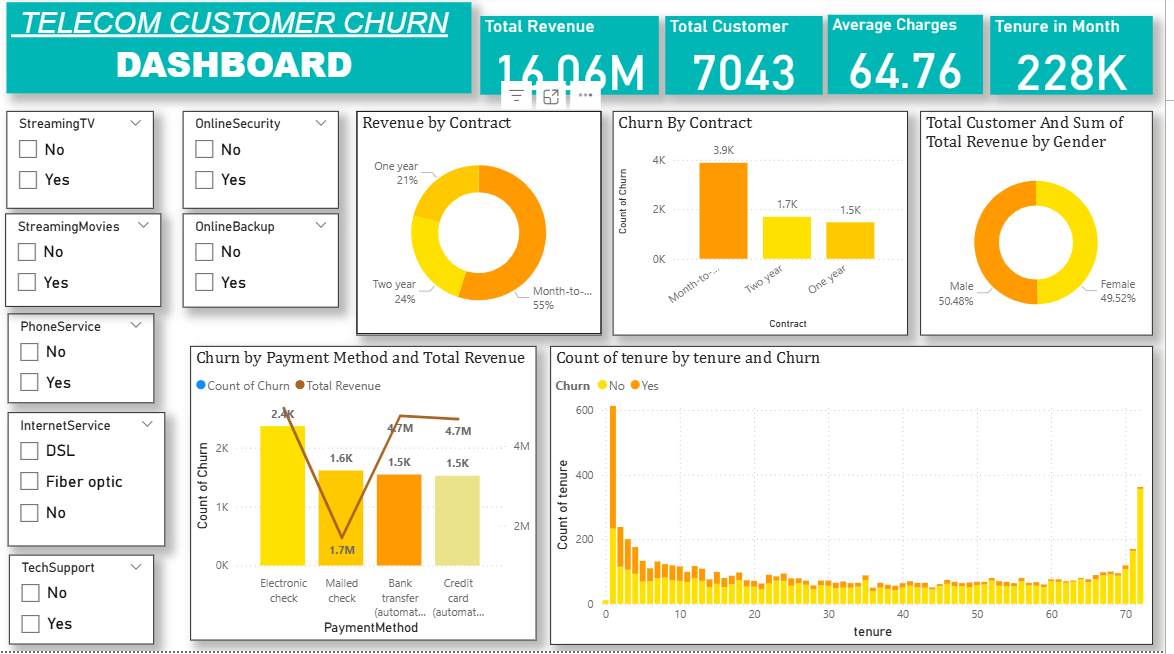

The page's visual inventory and layout, read from the dashboard file:
{"tool":"powerbi","page":{"name":"Page 1","canvas":[1280,720],"ordinal":0},"visuals":[{"type":"textbox","box":[8.6,7.1,510,100],"z":0},{"type":"card","title":"Total Revenue","fields":{"Values":["Sum(WA_Fn-UseC_-Telco-Customer-Churn.TotalCharges)"]},"box":[528.3,21.7,195.8,86.7],"z":1000},{"type":"card","title":"Total Customer","fields":{"Values":["Count(WA_Fn-UseC_-Telco-Customer-Churn.customerID)"]},"box":[730.8,21.7,172.5,86.7],"z":2000},{"type":"card","title":"Average Charges","fields":{"Values":["Avg(WA_Fn-UseC_-Telco-Customer-Churn.MonthlyCharges)"]},"box":[910,20.8,170,87.5],"z":3000},{"type":"card","title":"Tenure in Month","fields":{"Values":["Sum(WA_Fn-UseC_-Telco-Customer-Churn.tenure)"]},"box":[1087.5,21.7,178.3,86.7],"z":4000},{"type":"slicer","fields":{"Values":["WA_Fn-UseC_-Telco-Customer-Churn.StreamingTV"]},"box":[8.6,125.7,161.4,107.4],"z":5000},{"type":"slicer","fields":{"Values":["WA_Fn-UseC_-Telco-Customer-Churn.PhoneService"]},"box":[9.6,348.5,160.5,98.8],"z":6000},{"type":"slicer","fields":{"Values":["WA_Fn-UseC_-Telco-Customer-Churn.StreamingMovies"]},"box":[7.1,238.6,171.4,102.6],"z":7000},{"type":"slicer","fields":{"Values":["WA_Fn-UseC_-Telco-Customer-Churn.InternetService"]},"box":[9.6,456.9,172.9,146.8],"z":8000},{"type":"slicer","fields":{"Values":["WA_Fn-UseC_-Telco-Customer-Churn.TechSupport"]},"box":[11,613.4,159.2,98.8],"z":9000},{"type":"slicer","fields":{"Values":["WA_Fn-UseC_-Telco-Customer-Churn.OnlineSecurity"]},"box":[201.4,125.7,171.4,107.1],"z":10000},{"type":"slicer","fields":{"Values":["WA_Fn-UseC_-Telco-Customer-Churn.OnlineBackup"]},"box":[201.7,238.8,171.5,102.9],"z":11000},{"type":"donutChart","title":"Revenue by Contract","fields":{"Category":["WA_Fn-UseC_-Telco-Customer-Churn.Contract"],"Y":["CountNonNull(WA_Fn-UseC_-Telco-Customer-Churn.Contract)"]},"box":[392.3,126,269.1,246.4],"z":12000},{"type":"columnChart","title":"Churn By Contract","fields":{"Y":["CountNonNull(WA_Fn-UseC_-Telco-Customer-Churn.Churn)"],"Category":["WA_Fn-UseC_-Telco-Customer-Churn.Contract"]},"box":[674.1,126,324.3,246.4],"z":13000},{"type":"donutChart","title":"Total Customer And Sum of Total Revenue by Gender","fields":{"Y":["CountNonNull(WA_Fn-UseC_-Telco-Customer-Churn.customerID)"],"Series":["WA_Fn-UseC_-Telco-Customer-Churn.gender"]},"box":[1011.2,126,254.9,246.4],"z":14000},{"type":"lineClusteredColumnComboChart","title":"Churn by Payment Method and Total Revenue","fields":{"Category":["WA_Fn-UseC_-Telco-Customer-Churn.PaymentMethod"],"Y":["CountNonNull(WA_Fn-UseC_-Telco-Customer-Churn.Churn)"],"Y2":["WA_Fn-UseC_-Telco-Customer-Churn.Total Revenue"]},"box":[209.6,383.8,379.8,322.9],"z":15000},{"type":"columnChart","fields":{"Category":["WA_Fn-UseC_-Telco-Customer-Churn.tenure"],"Y":["CountNonNull(WA_Fn-UseC_-Telco-Customer-Churn.tenure)"],"Series":["WA_Fn-UseC_-Telco-Customer-Churn.Churn"]},"box":[605.1,384.2,661.4,328],"z":16000}]}

Visuals, with their boxes in screenshot pixels (x1, y1, x2, y2), scaled from the page's 1280x720 canvas onto the 1174x654 screenshot:
textbox: {"left": 8, "top": 6, "right": 476, "bottom": 97}
"Total Revenue" card: {"left": 485, "top": 20, "right": 664, "bottom": 98}
"Total Customer" card: {"left": 670, "top": 20, "right": 828, "bottom": 98}
"Average Charges" card: {"left": 835, "top": 19, "right": 991, "bottom": 98}
"Tenure in Month" card: {"left": 997, "top": 20, "right": 1161, "bottom": 98}
slicer - WA_Fn-UseC_-Telco-Customer-Churn.StreamingTV: {"left": 8, "top": 114, "right": 156, "bottom": 212}
slicer - WA_Fn-UseC_-Telco-Customer-Churn.PhoneService: {"left": 9, "top": 317, "right": 156, "bottom": 406}
slicer - WA_Fn-UseC_-Telco-Customer-Churn.StreamingMovies: {"left": 7, "top": 217, "right": 164, "bottom": 310}
slicer - WA_Fn-UseC_-Telco-Customer-Churn.InternetService: {"left": 9, "top": 415, "right": 167, "bottom": 548}
slicer - WA_Fn-UseC_-Telco-Customer-Churn.TechSupport: {"left": 10, "top": 557, "right": 156, "bottom": 647}
slicer - WA_Fn-UseC_-Telco-Customer-Churn.OnlineSecurity: {"left": 185, "top": 114, "right": 342, "bottom": 211}
slicer - WA_Fn-UseC_-Telco-Customer-Churn.OnlineBackup: {"left": 185, "top": 217, "right": 342, "bottom": 310}
"Revenue by Contract" donutChart: {"left": 360, "top": 114, "right": 607, "bottom": 338}
"Churn By Contract" columnChart: {"left": 618, "top": 114, "right": 916, "bottom": 338}
"Total Customer And Sum of Total Revenue by Gender" donutChart: {"left": 927, "top": 114, "right": 1161, "bottom": 338}
"Churn by Payment Method and Total Revenue" lineClusteredColumnComboChart: {"left": 192, "top": 349, "right": 541, "bottom": 642}
columnChart - WA_Fn-UseC_-Telco-Customer-Churn.tenure x CountNonNull(WA_Fn-UseC_-Telco-Customer-Churn.tenure): {"left": 555, "top": 349, "right": 1162, "bottom": 647}
